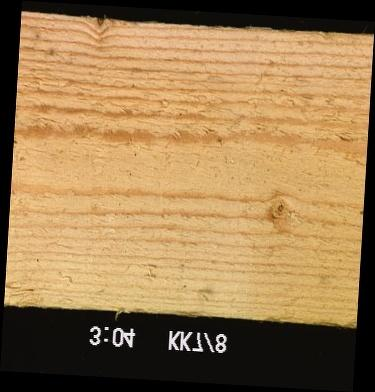edge_knot: (89, 14, 112, 39)
small_knot: (262, 191, 304, 236)
